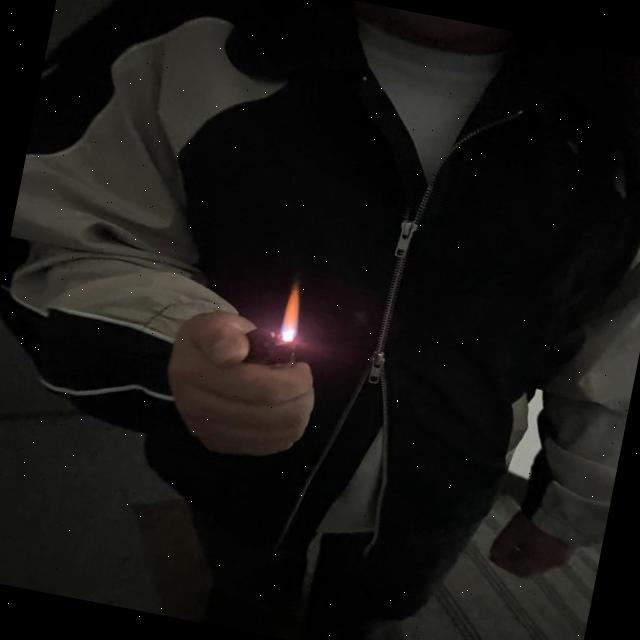fire: (276, 276, 312, 346)
